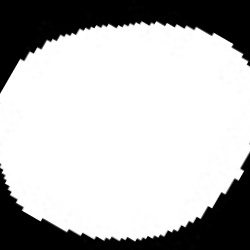spot: (1, 24, 250, 242)
